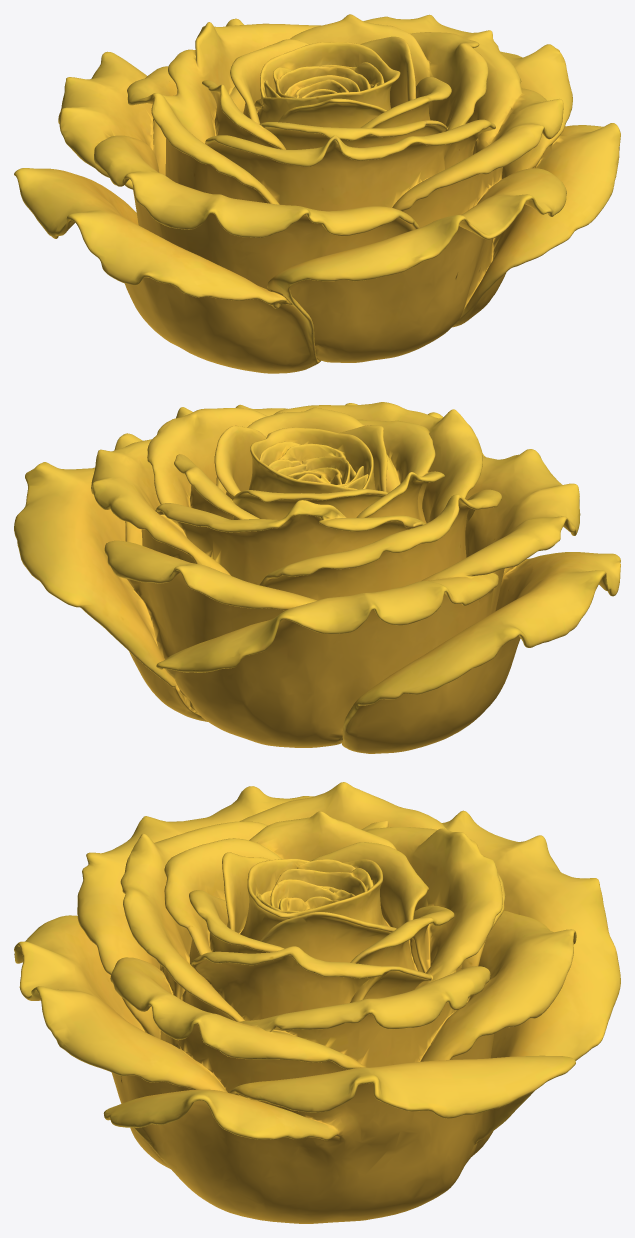
Rendered from Yellow Rose no stem.glb.
3 renders of one model, top to bottom at view 1: azimuth 30°, elevation 25°; view 2: azimuth 150°, elevation 25°; view 3: azimuth 270°, elevation 25°, orthographic. The views are drawn at different scales.
Visible parts, largest first — view 1: tripo_node_c2b2dcb4-075d-4671-ad3b-980735ac60dc; view 2: tripo_node_c2b2dcb4-075d-4671-ad3b-980735ac60dc; view 3: tripo_node_c2b2dcb4-075d-4671-ad3b-980735ac60dc.
Part boxes in pixels (x1=…): tripo_node_c2b2dcb4-075d-4671-ad3b-980735ac60dc: x1=14, y1=14, x2=620, y2=373; tripo_node_c2b2dcb4-075d-4671-ad3b-980735ac60dc: x1=14, y1=402, x2=620, y2=753; tripo_node_c2b2dcb4-075d-4671-ad3b-980735ac60dc: x1=14, y1=782, x2=620, y2=1223.
Bounding box in the file's own units: 0.9998 × 0.4695 × 0.8617.
Materials: 1 (1 with a texture image).
